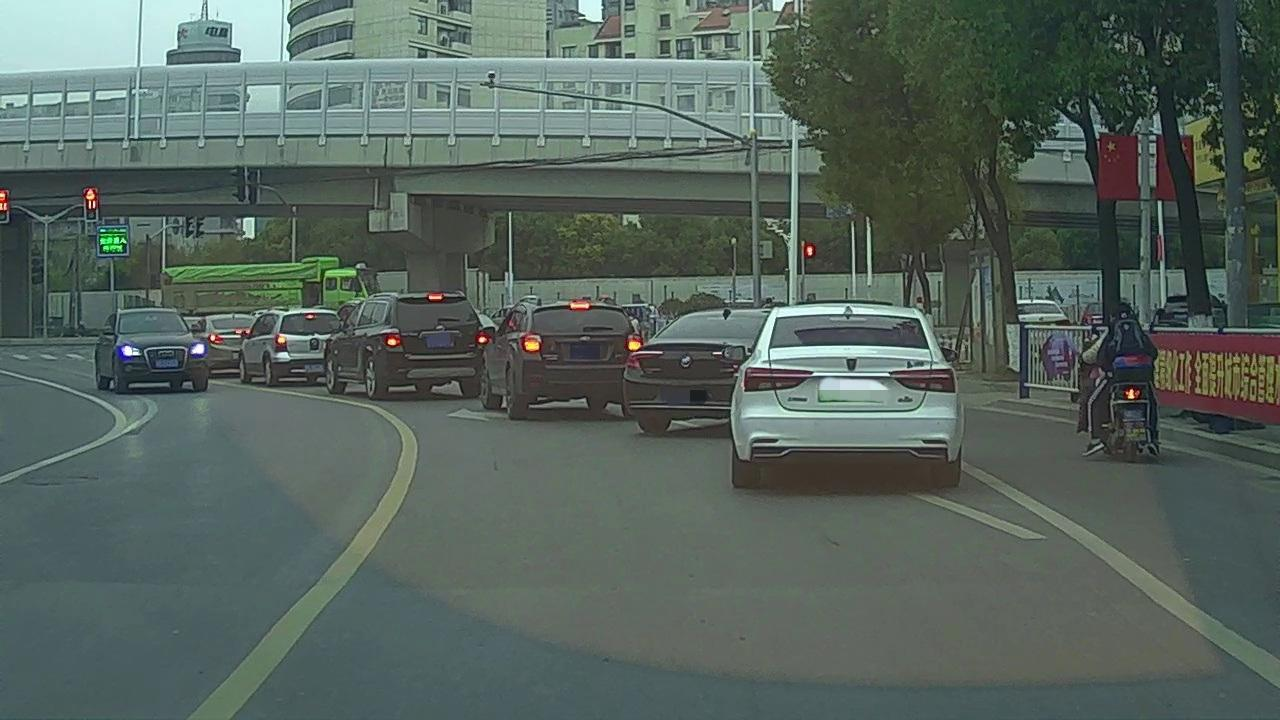traffic_light: (87, 190, 98, 220), (1, 193, 10, 224)
